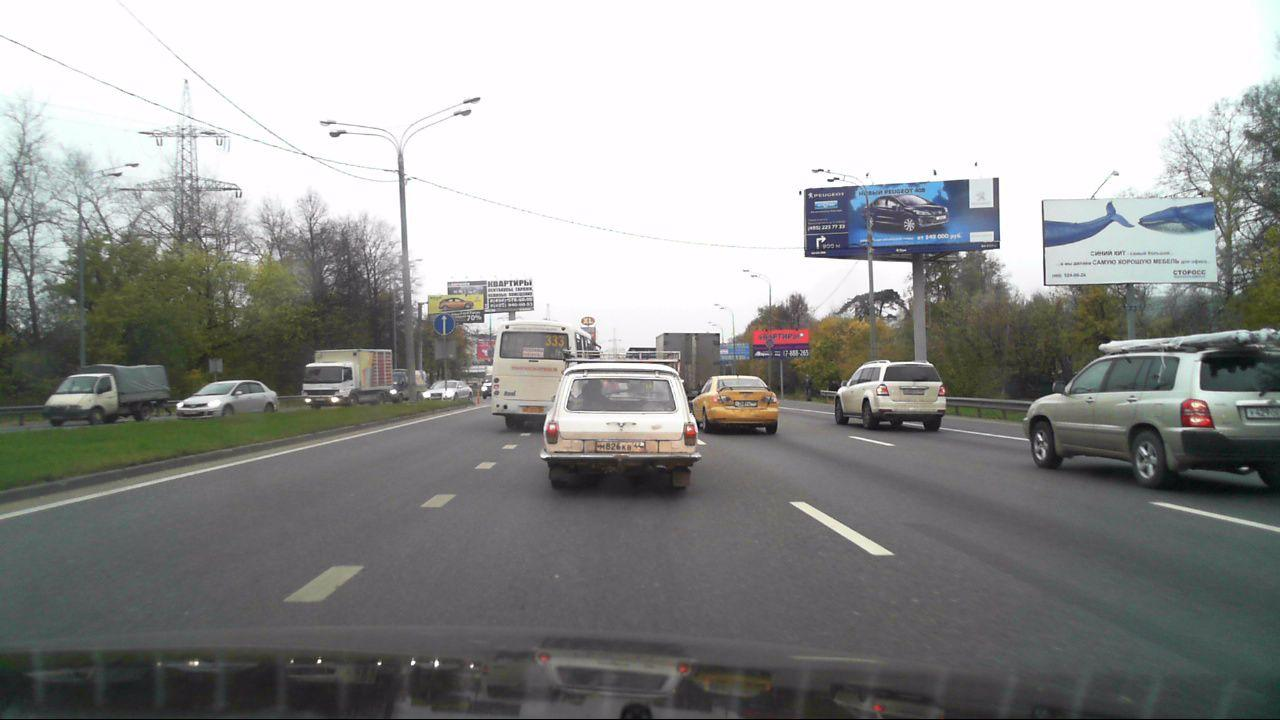road_sign: (432, 313, 456, 335)
